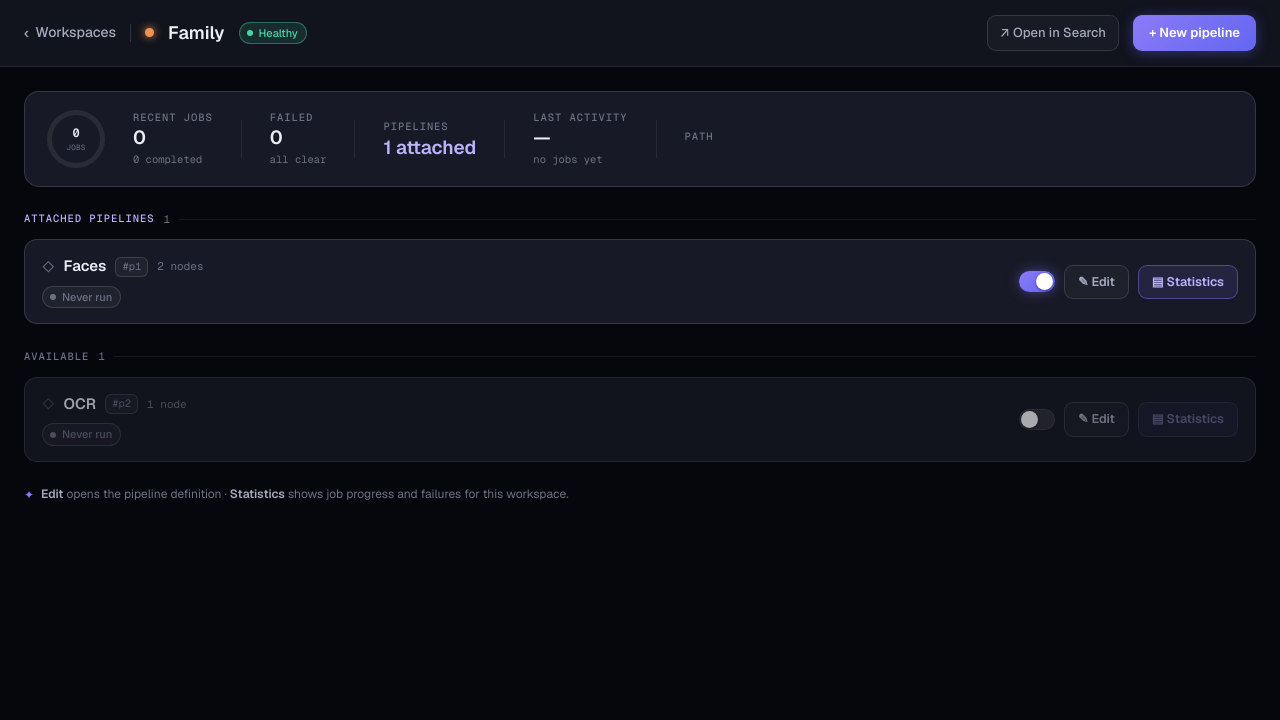
Test: WorkspaceDetailView › detaching removes it; a failure is reported
What coordinates should you click on to do the following:
click the button titled "Detach from this workspace"
I would click on:
 (1037, 282)
Its box is [1019,271,1055,292].
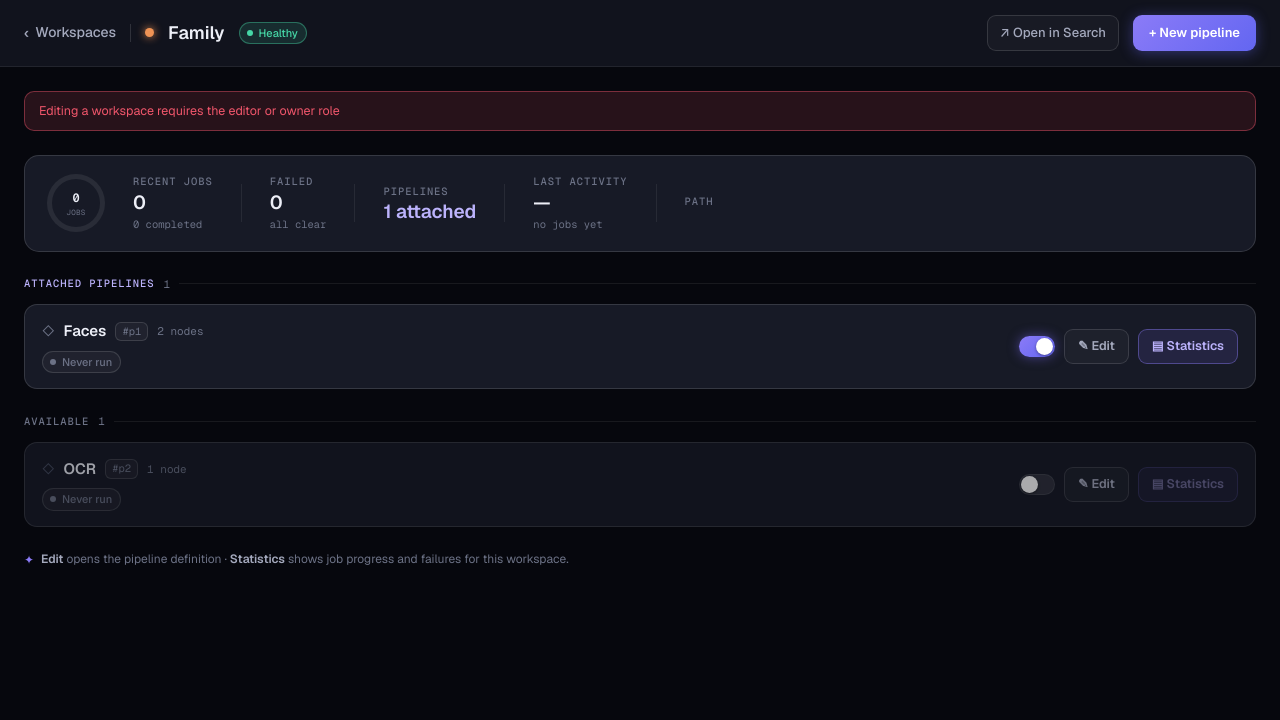
Check: the text "Editing a workspace requires the editor or owner role" is shown, box [24,90,1256,131]
